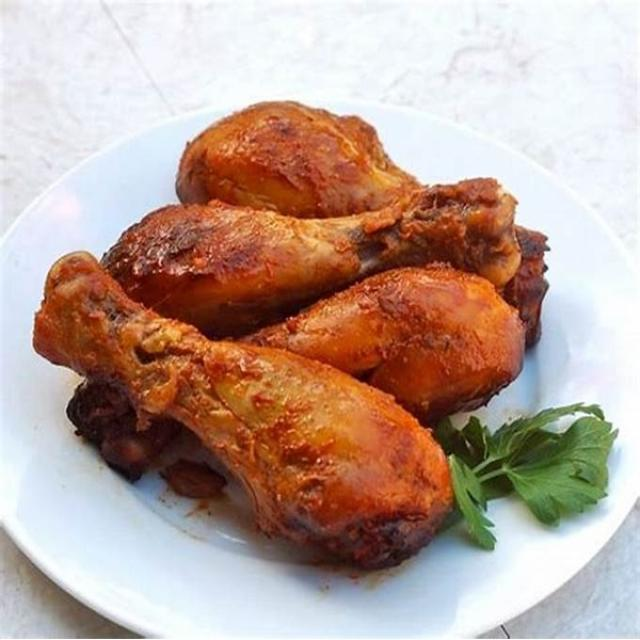CHICKEN FRY: (35, 105, 544, 572)
